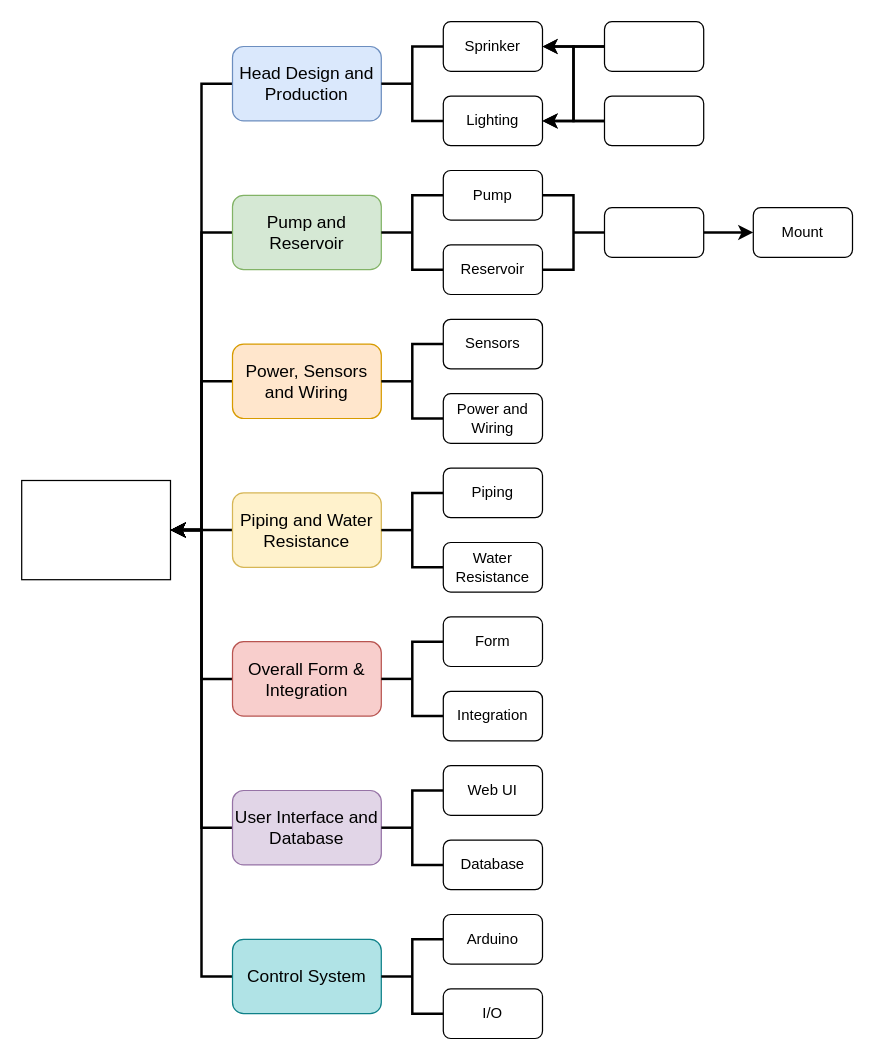
The diagram is 874 pixels wide and 1060 high, and some of its shapes have lost their labels. Here are the shapes that lost their labels. From the top down, the centre of each, then its label:
pixel 653 45: CAD Design
pixel 653 120: 3D Print
pixel 653 231: Selection
pixel 95 529: Smart Pot
